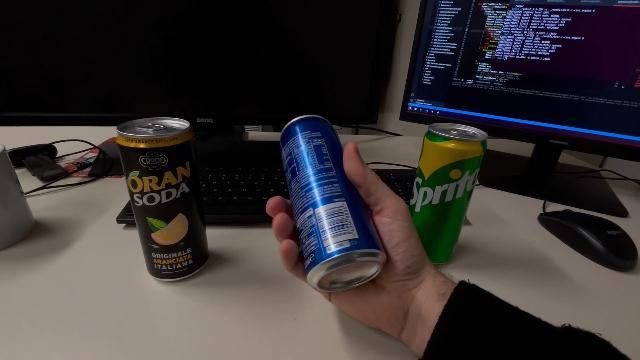OranSoda: (115, 115, 212, 283)
Pepsi: (276, 111, 388, 295)
Sprite: (406, 118, 488, 266)
